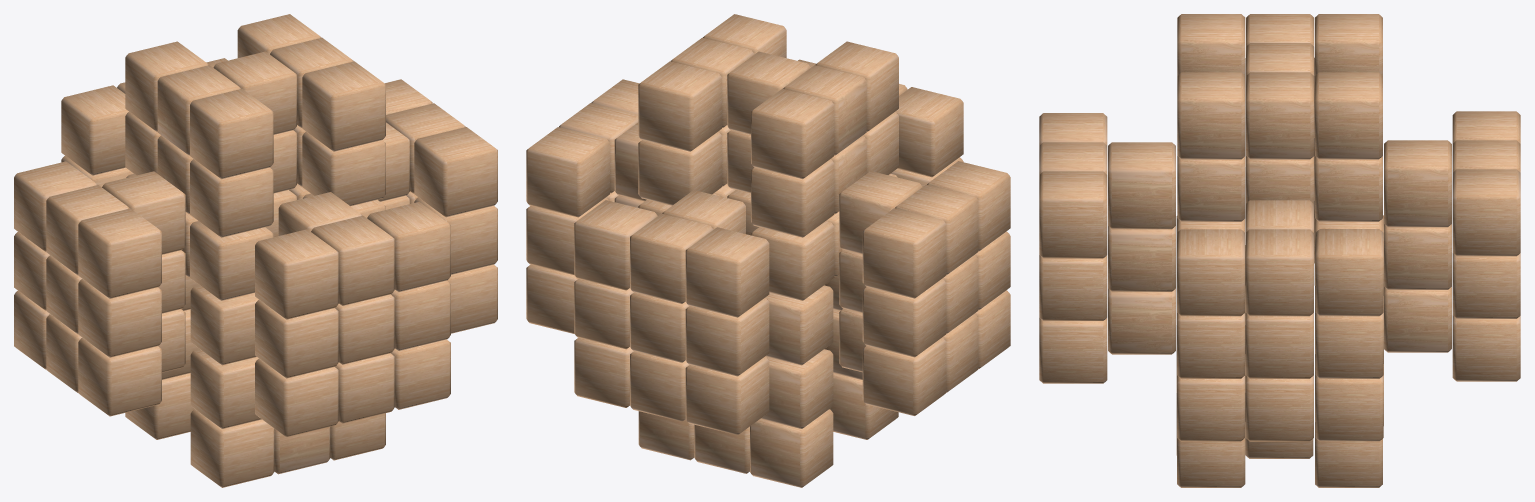
The model's file is level_110.fbx.
3 views of the same model, side by side, from view 1: azimuth 30°, elevation 25°; view 2: azimuth 150°, elevation 25°; view 3: azimuth 270°, elevation 25° (orthographic). The views are drawn at different scales.
Parts seen in each view (by area): view 1: Cube.082, Cube.025, Cube.090, Cube.022, Cube.074, Cube.077, Cube.038, Cube.059, Cube.008, Cube.056, Cube.012, Cube.088 (+38 smaller); view 2: Cube.077, Cube.034, Cube.035, Cube.081, Cube.089, Cube.074, Cube.016, Cube.064, Cube.042, Cube.078, Cube.087, Cube.062 (+37 smaller); view 3: Cube.021, Cube.035, Cube.080, Cube.083, Cube.082, Cube.084, Cube.081, Cube.075, Cube.022, Cube.072, Cube.052, Cube.069 (+29 smaller).
Part boxes in pixels (x1,y1,x2,y2): Cube.082: (302,61,385,151); Cube.025: (78,208,161,298); Cube.090: (190,89,273,179); Cube.022: (414,127,497,217); Cube.074: (255,229,338,319); Cube.077: (61,85,128,175); Cube.038: (255,358,338,437); Cube.059: (78,338,161,416); Cube.008: (78,279,161,357); Cube.056: (255,300,338,378); Cube.012: (190,409,274,487); Cube.088: (190,159,273,237); Cube.077: (685,227,769,317); Cube.034: (862,208,946,298); Cube.035: (526,127,609,217); Cube.081: (638,61,721,151); Cube.089: (751,88,834,178); Cube.074: (895,87,963,177); Cube.016: (862,278,946,357); Cube.064: (685,297,769,376); Cube.042: (685,356,769,435); Cube.078: (862,337,946,415); Cube.087: (751,159,834,237); Cube.062: (750,409,833,487); Cube.021: (1245,229,1313,316); Cube.035: (1315,229,1383,316); Cube.080: (1246,72,1314,159); Cube.083: (1452,169,1520,256); Cube.082: (1177,72,1245,159); Cube.084: (1039,171,1107,258); Cube.081: (1315,72,1382,159); Cube.075: (1384,140,1451,227); Cube.022: (1177,229,1244,316); Cube.072: (1108,142,1175,229); Cube.052: (1245,375,1313,441); Cube.069: (1039,255,1107,320).
Bounding box in the file's own units: 14.13 × 12.65 × 14.15.
